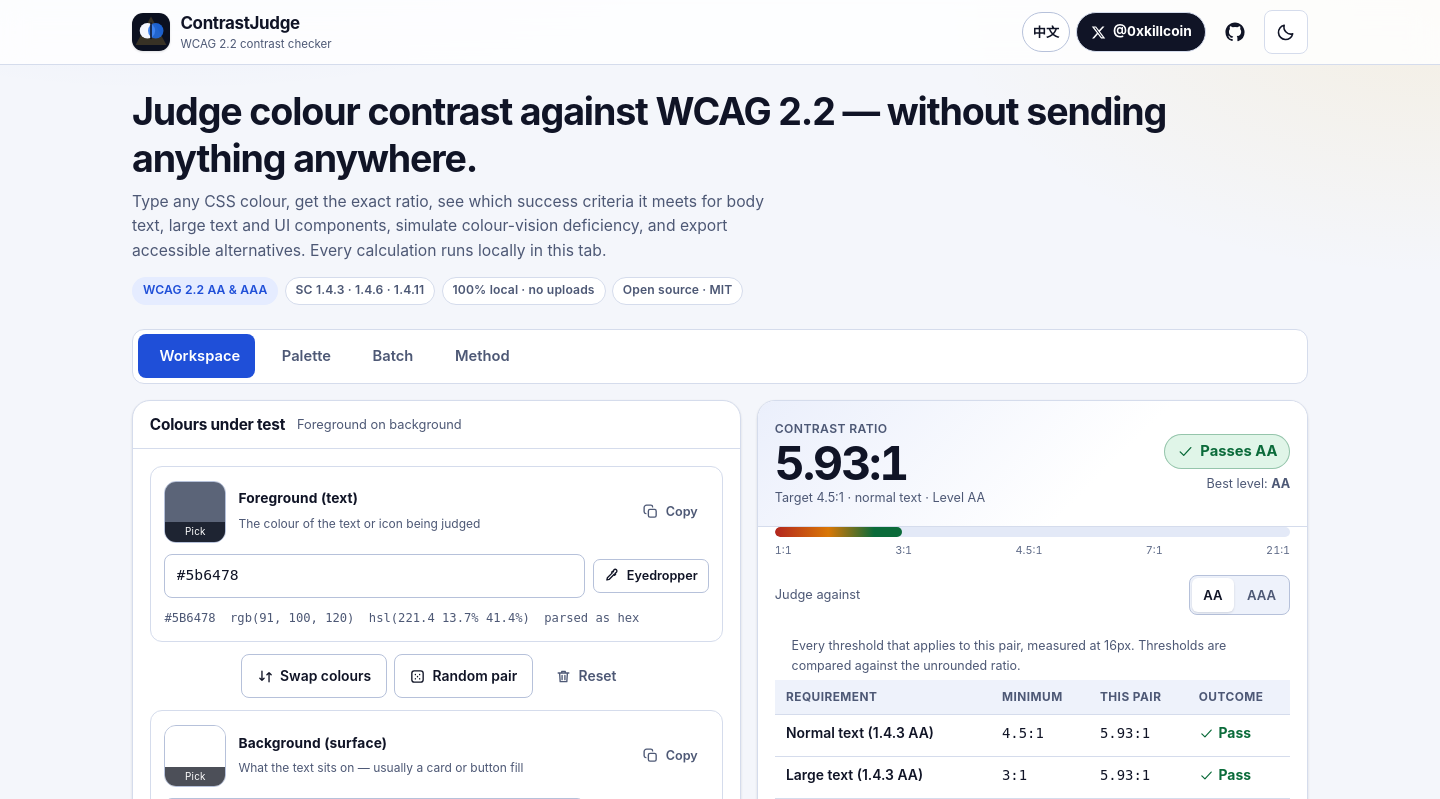
Test case: ContrastJudge app shell › swaps foreground and background
Expected: the field labelled "Foreground (text)" holds "#5b6478", [164,554,585,598]
Click the button "Swap colours": (314, 676) [241,654,387,698]
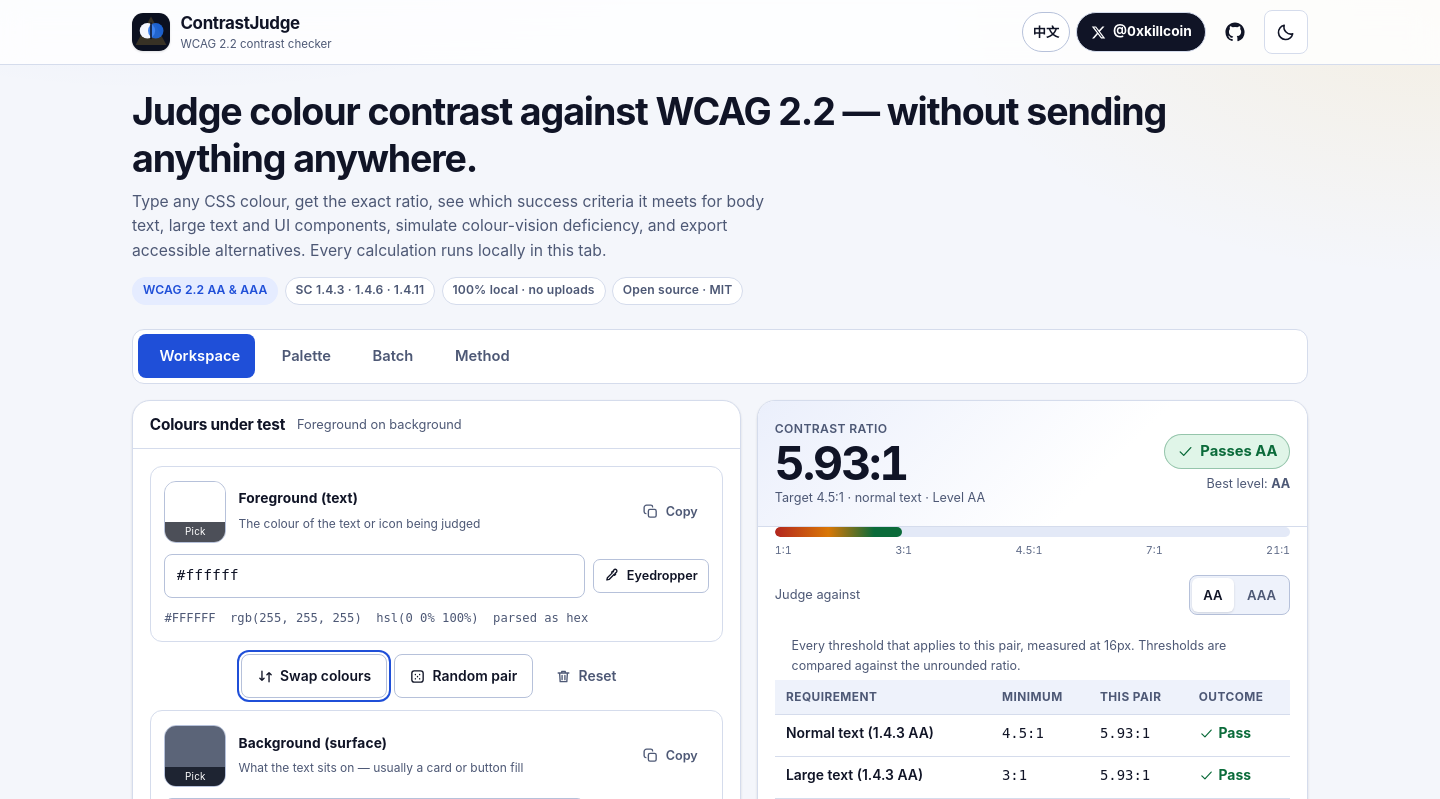
Expected: the text with test id "contrast-ratio" reads "5.93:1", [775,435,907,491]
Result: the field labelled "Foreground (text)" holds "#ffffff" at [164,554,585,598]
